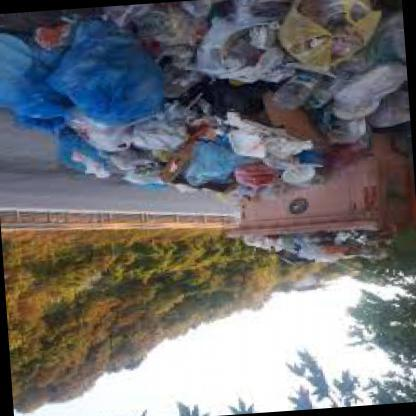Garbage: (57, 0, 375, 179), (247, 0, 409, 134), (0, 19, 92, 117), (254, 228, 392, 262)
